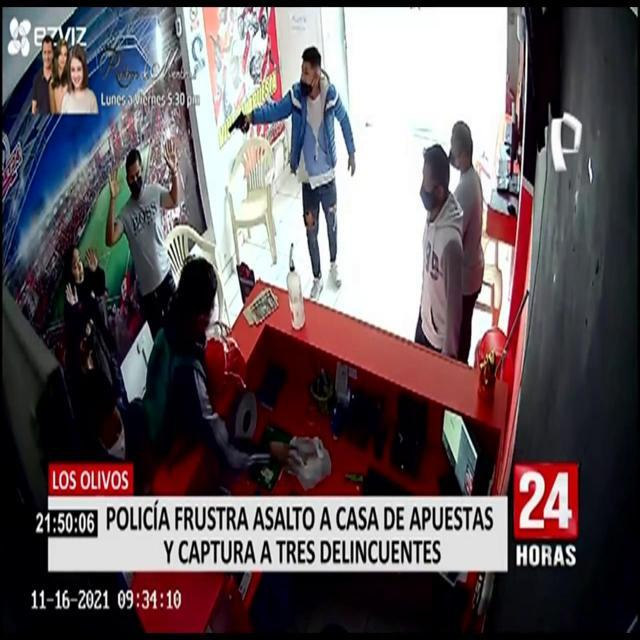weapon: (221, 95, 257, 146)
